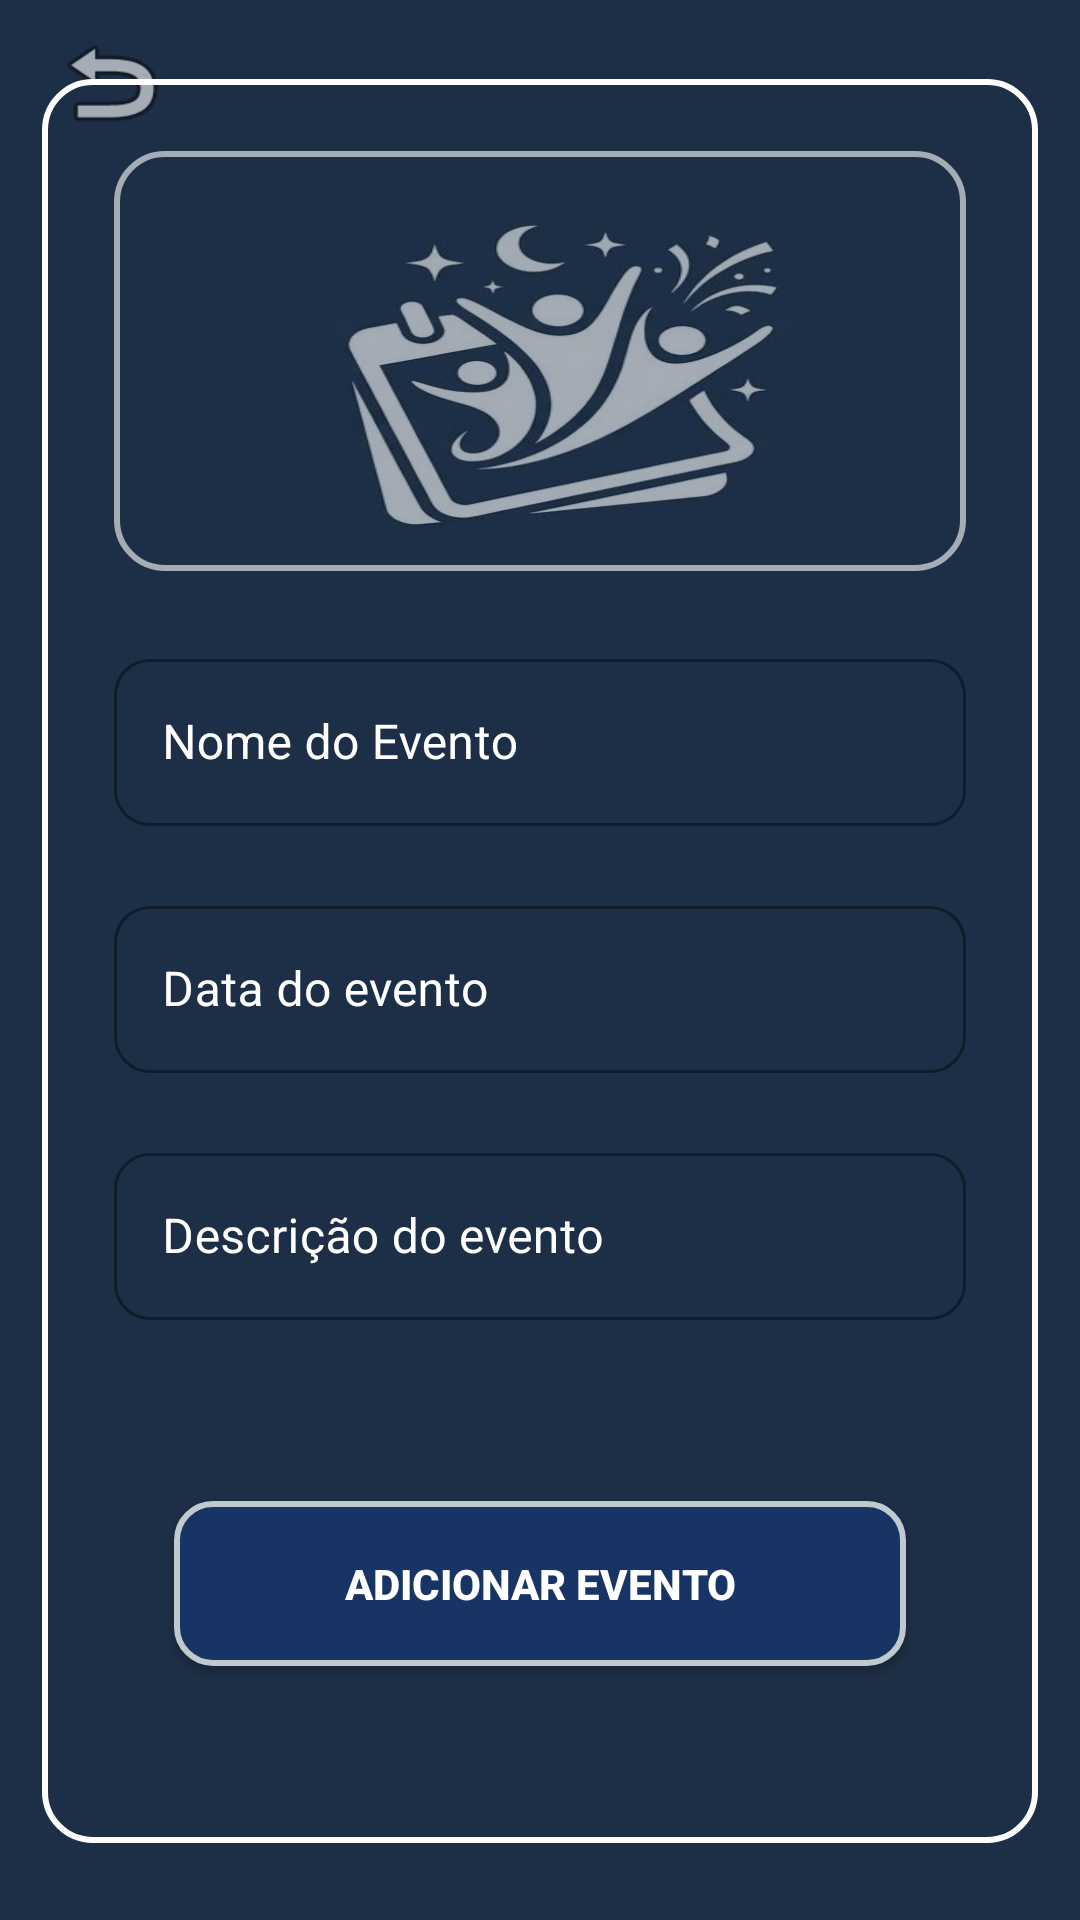

Icons on this 1080px x 1920px Android screen, each with its box as (x1, y1, x2, y2):
revert: (48, 46, 174, 128)
